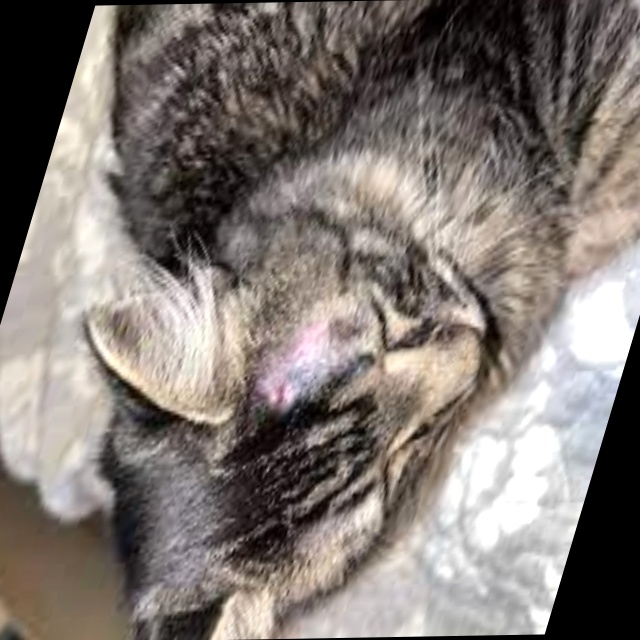ringworm: (241, 289, 367, 422)
